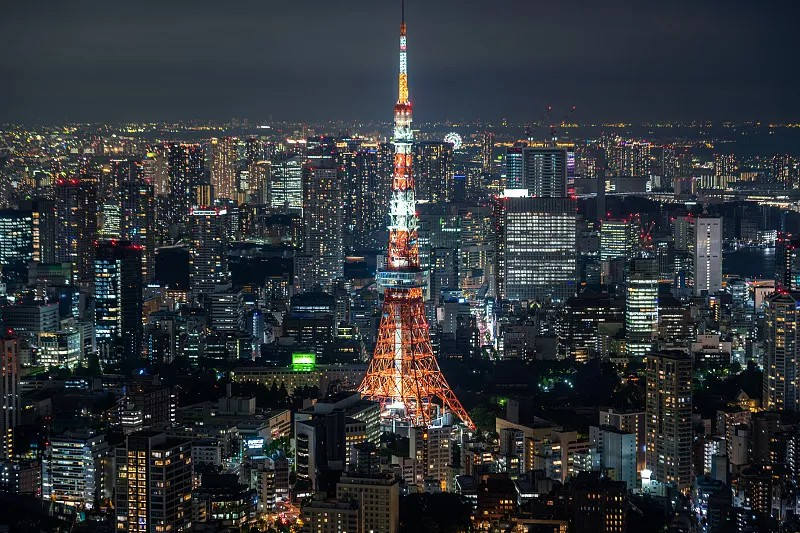Tokyo: (358, 1, 474, 432)
